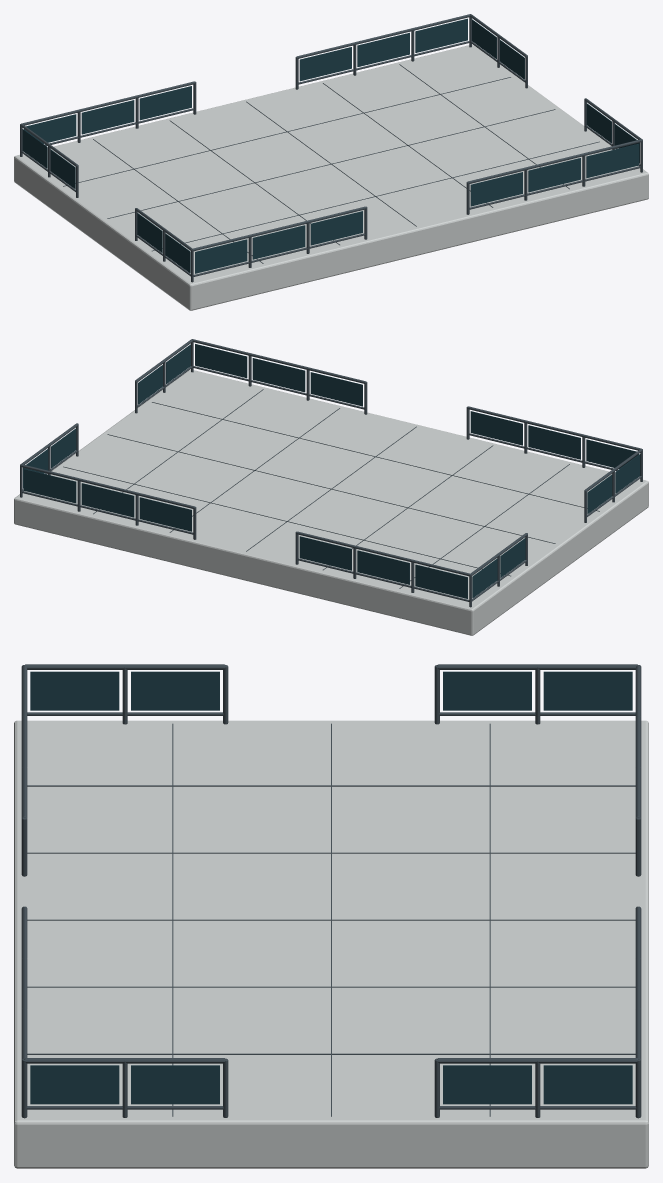
Rendered from SkyTerrace.fbx.
The picture shows the model from 3 angles, top to bottom: view 1: azimuth 30°, elevation 25°; view 2: azimuth 150°, elevation 25°; view 3: azimuth 270°, elevation 25°; orthographic projection. The views are drawn at different scales.
Visible parts, largest first — view 1: SkyTerrace_SC_Concrete, SkyTerrace_SC_Glass, SkyTerrace_SC_Metal; view 2: SkyTerrace_SC_Concrete, SkyTerrace_SC_Glass, SkyTerrace_SC_Metal; view 3: SkyTerrace_SC_Concrete, SkyTerrace_SC_Glass, SkyTerrace_SC_Metal.
Part boxes in pixels (box(x1,y1,x2,y2)): SkyTerrace_SC_Concrete: box(14, 44, 648, 310); SkyTerrace_SC_Glass: box(22, 18, 639, 273); SkyTerrace_SC_Metal: box(20, 14, 642, 282); SkyTerrace_SC_Concrete: box(14, 369, 648, 635); SkyTerrace_SC_Glass: box(23, 344, 640, 598); SkyTerrace_SC_Metal: box(20, 339, 642, 607); SkyTerrace_SC_Concrete: box(14, 720, 648, 1168); SkyTerrace_SC_Glass: box(30, 671, 632, 1104); SkyTerrace_SC_Metal: box(21, 664, 641, 1118).
Size of the model in its own units: 18 by 2.23 by 12.
